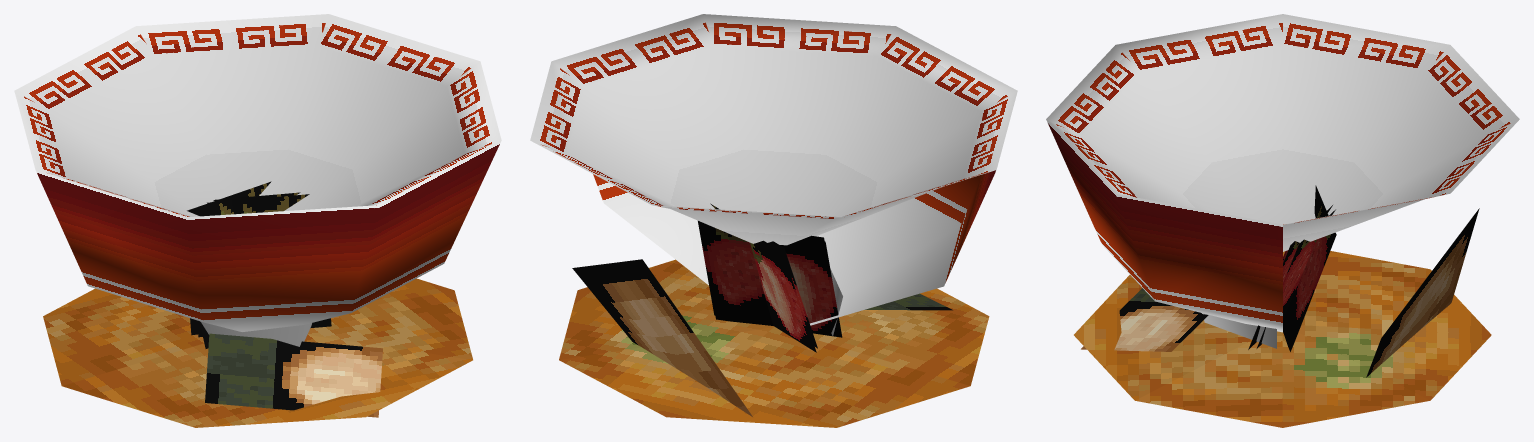
3 renders of one model, left to right at view 1: azimuth 30°, elevation 25°; view 2: azimuth 150°, elevation 25°; view 3: azimuth 270°, elevation 25°, orthographic. The views are drawn at different scales.
Parts seen in each view (by area): view 1: 5531u_ramn02_hs; view 2: 5531u_ramn02_hs; view 3: 5531u_ramn02_hs.
Part boxes in pixels (x1,y1,x2,y2): 5531u_ramn02_hs: [14, 14, 501, 427]; 5531u_ramn02_hs: [530, 14, 1017, 427]; 5531u_ramn02_hs: [1046, 14, 1519, 427].
Size of the model in its own units: 0.7798 by 0.4629 by 0.7417.
5 materials, 5 textured.
